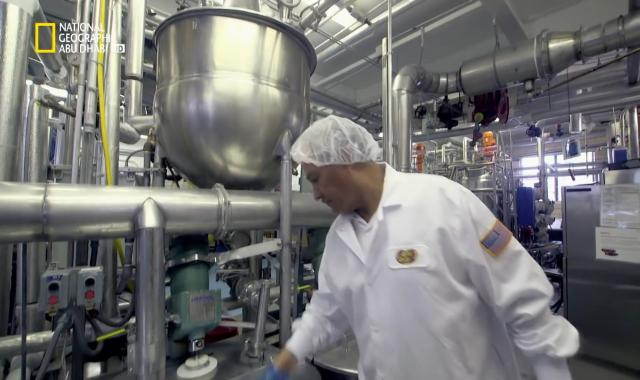hairnet: (294, 116, 382, 175)
